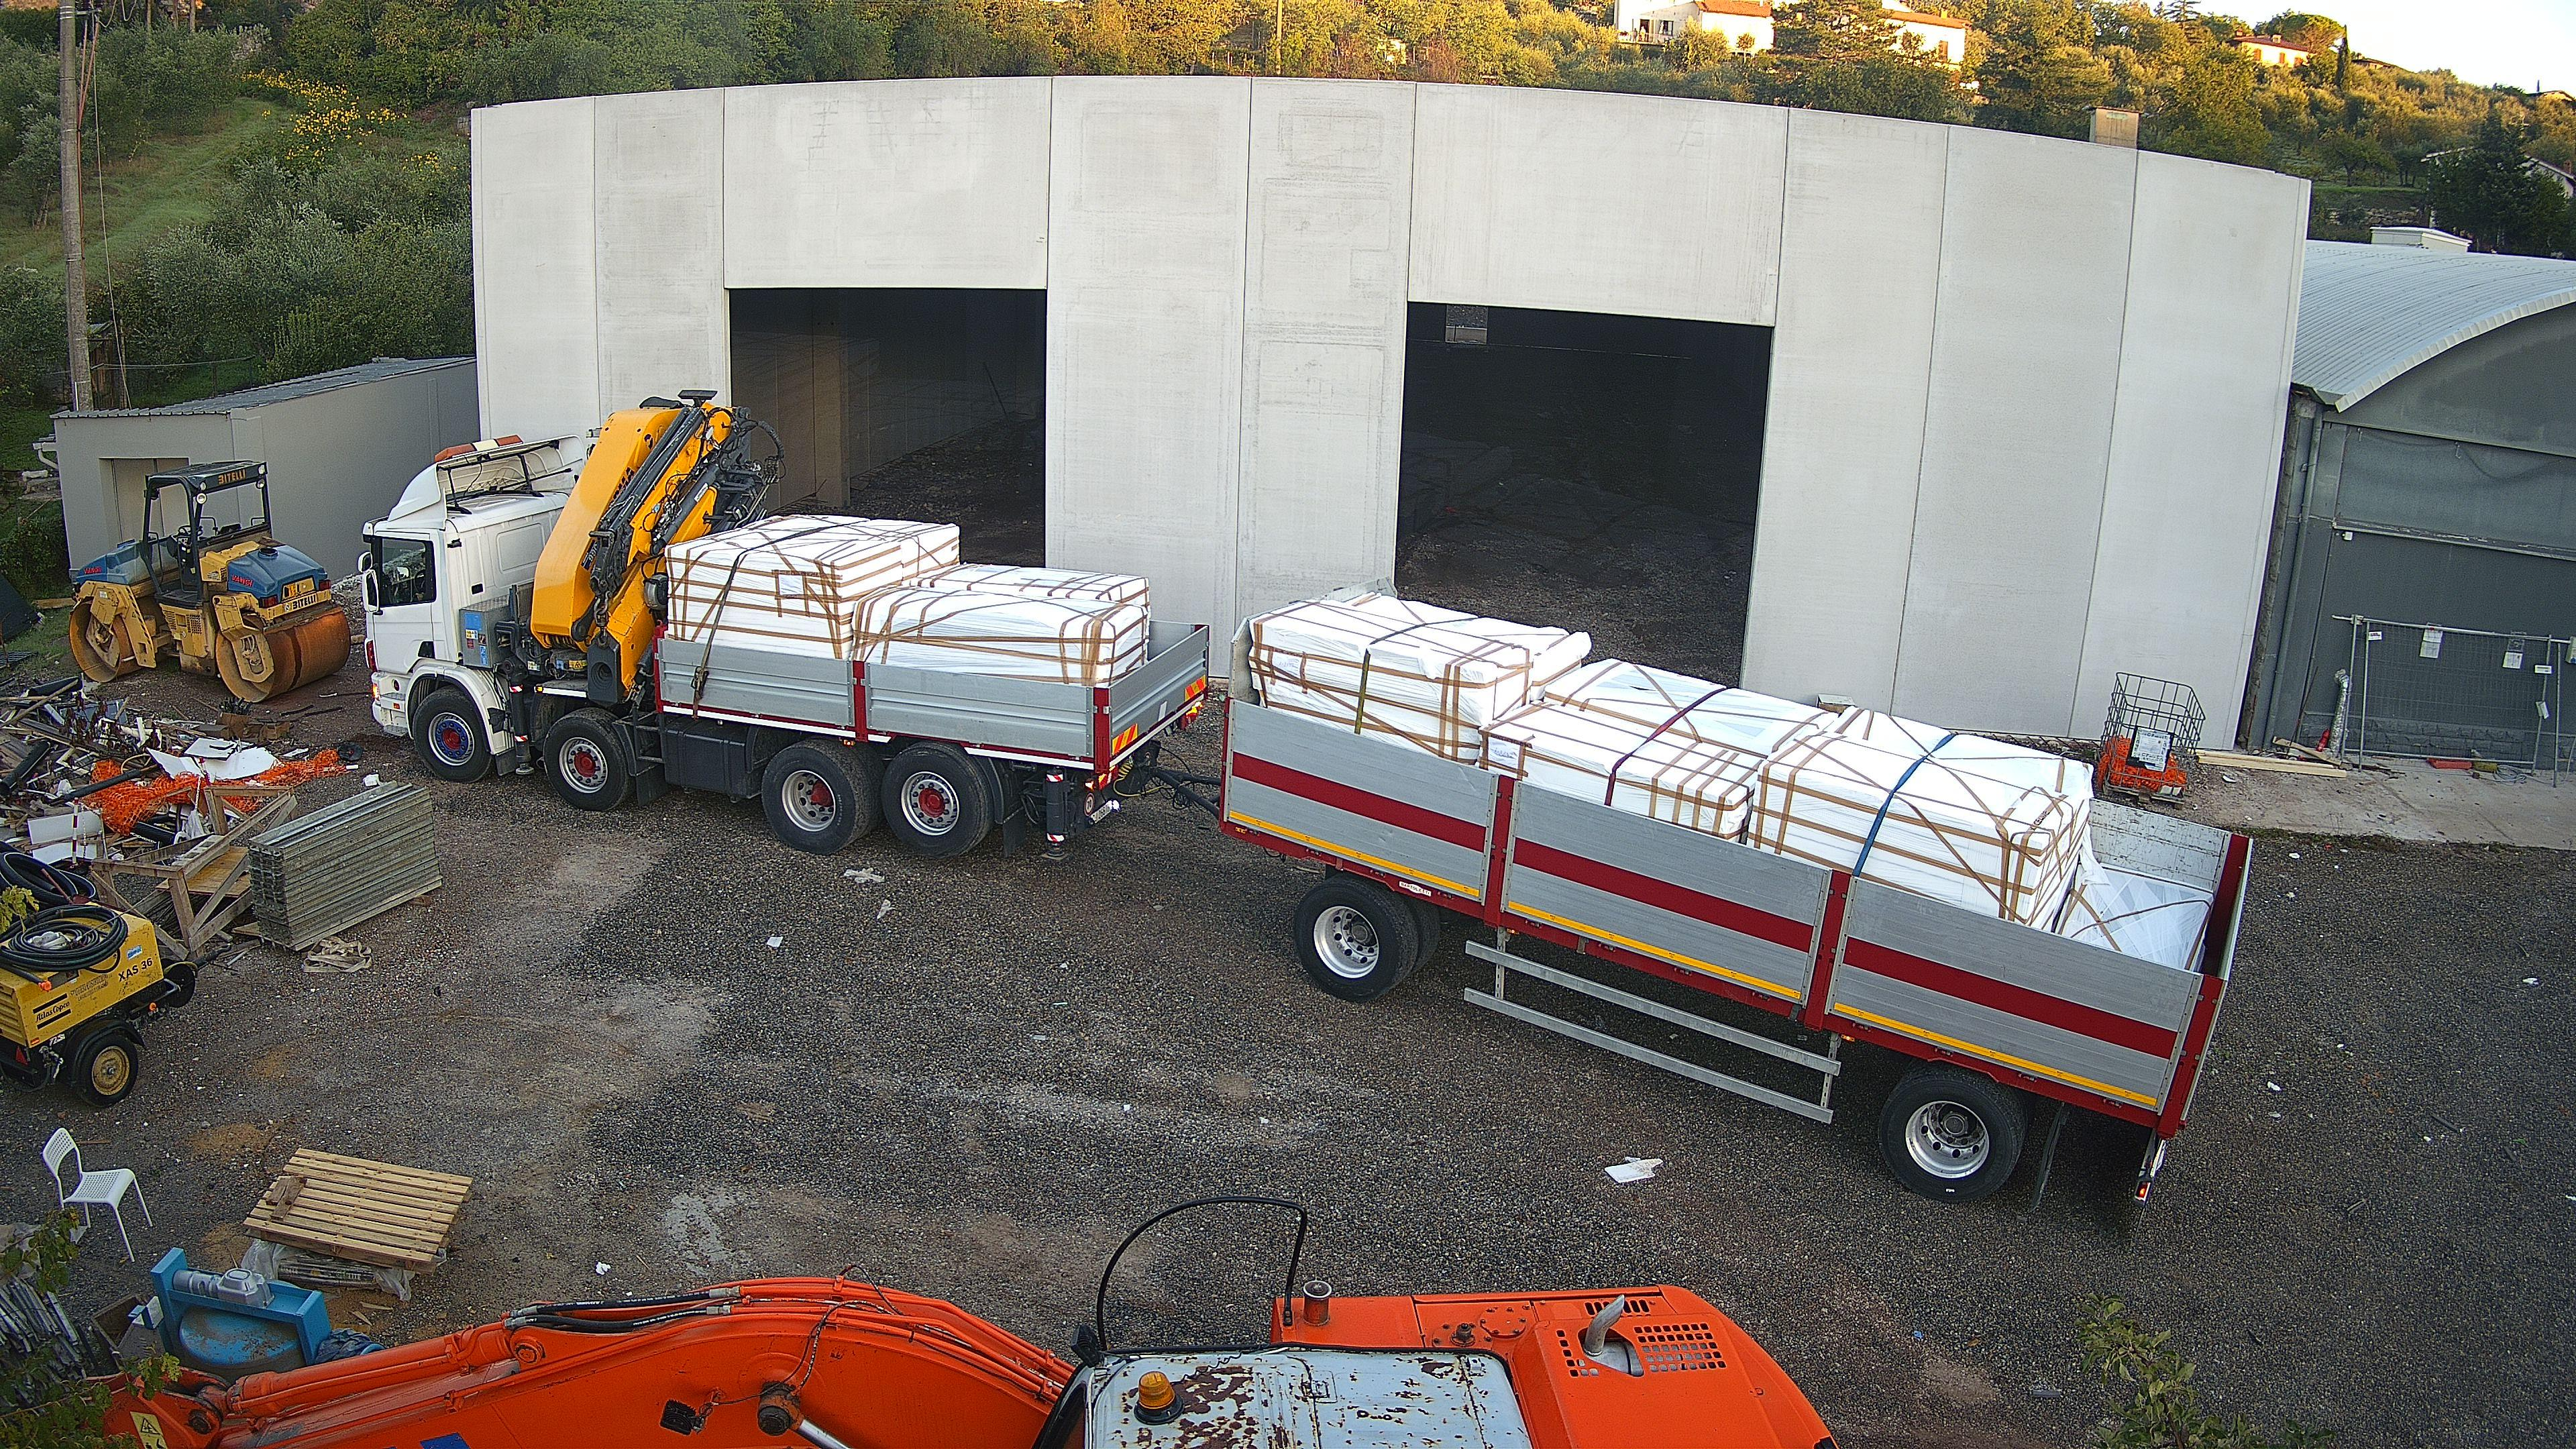Aerial platforms: (356, 387, 1215, 867)
excavator: (0, 1191, 1849, 1449)
